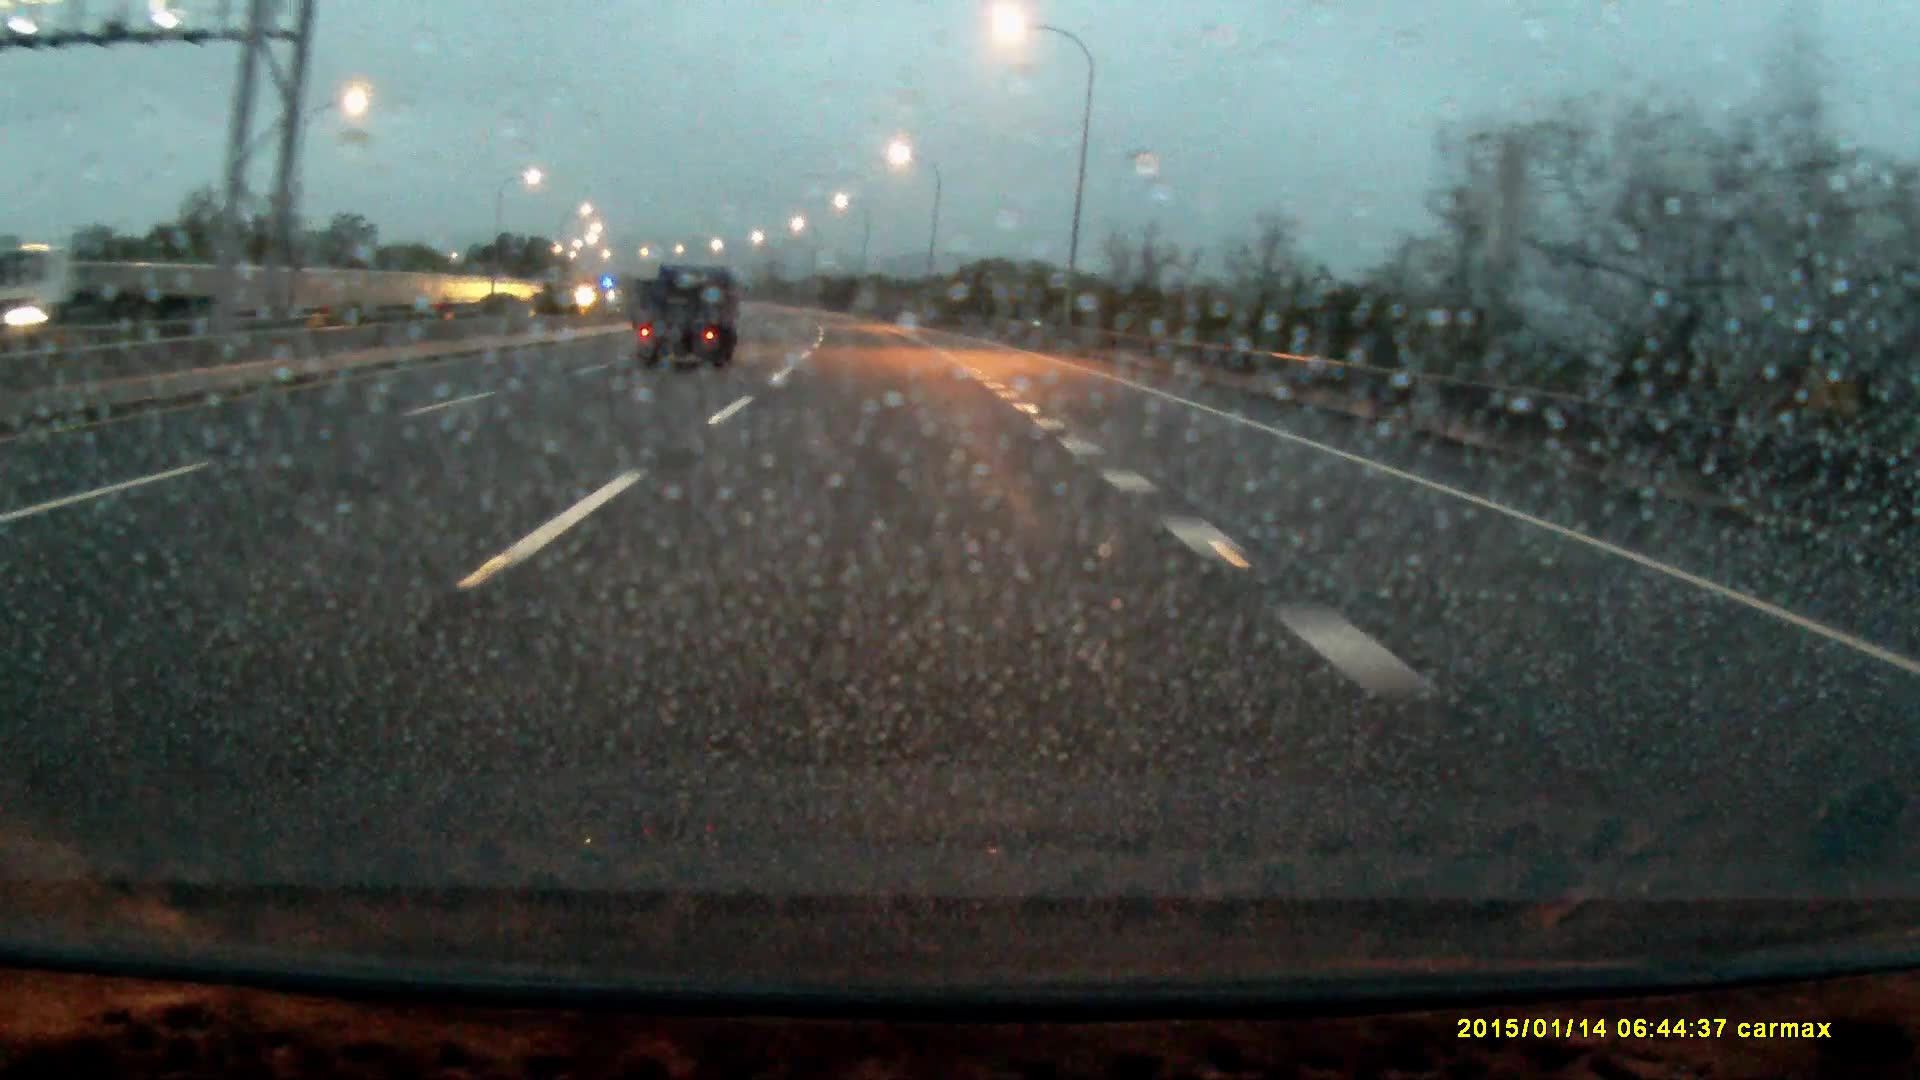vehicle: (15, 255, 231, 326), (636, 261, 742, 371)
